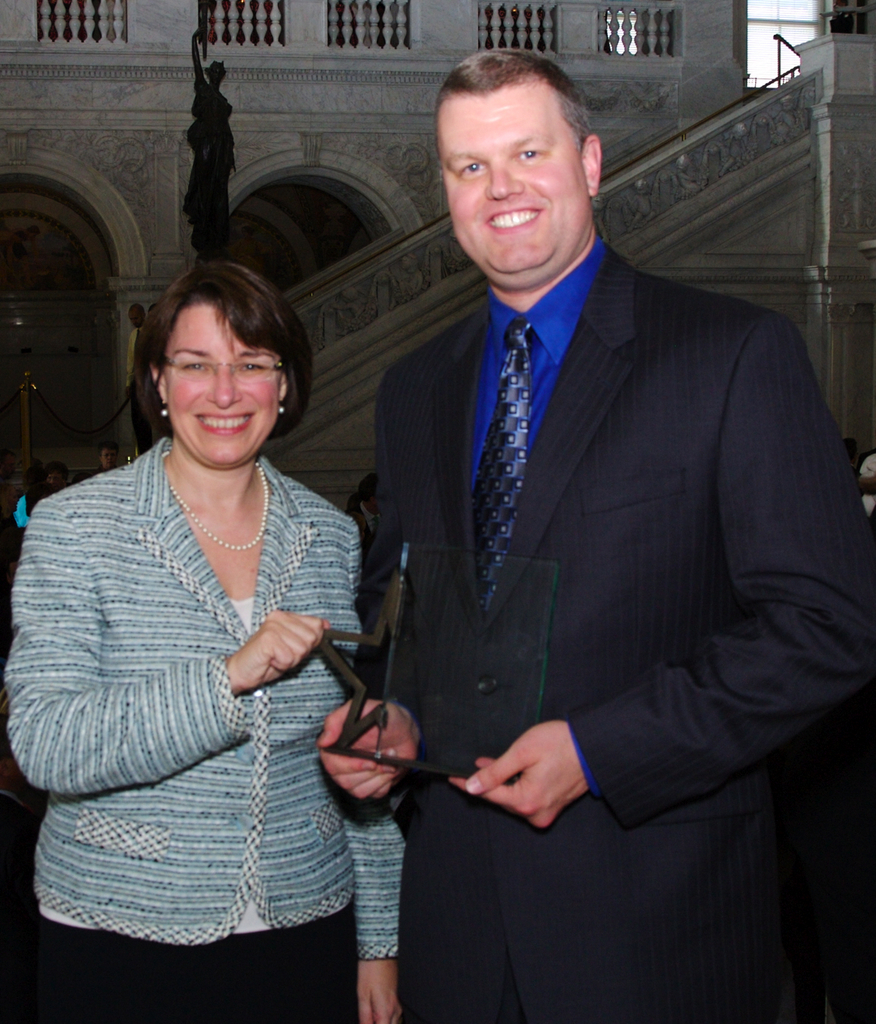Human_hand: (481, 724, 614, 822), (310, 697, 425, 806), (222, 607, 336, 692), (358, 958, 407, 1023)
